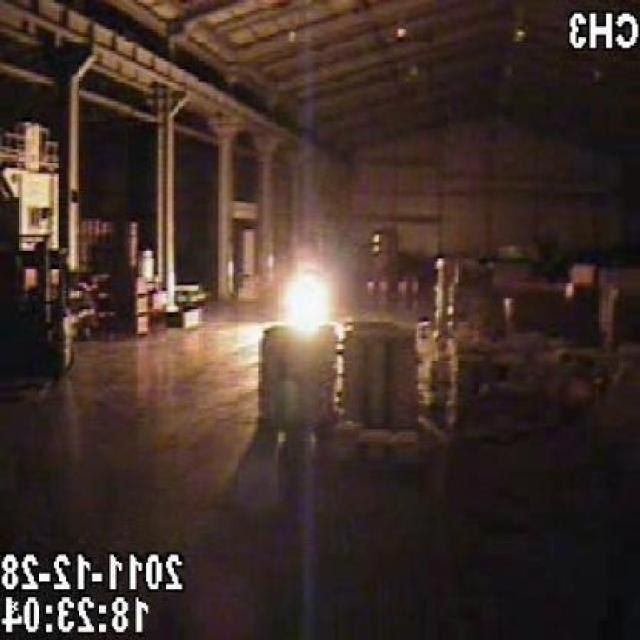smoke: (284, 254, 336, 336)
